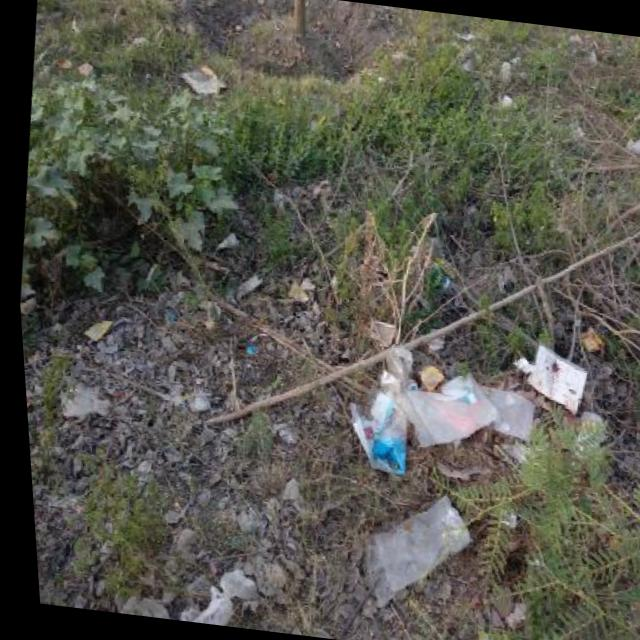plastic: (351, 486, 481, 618), (384, 362, 504, 457)
